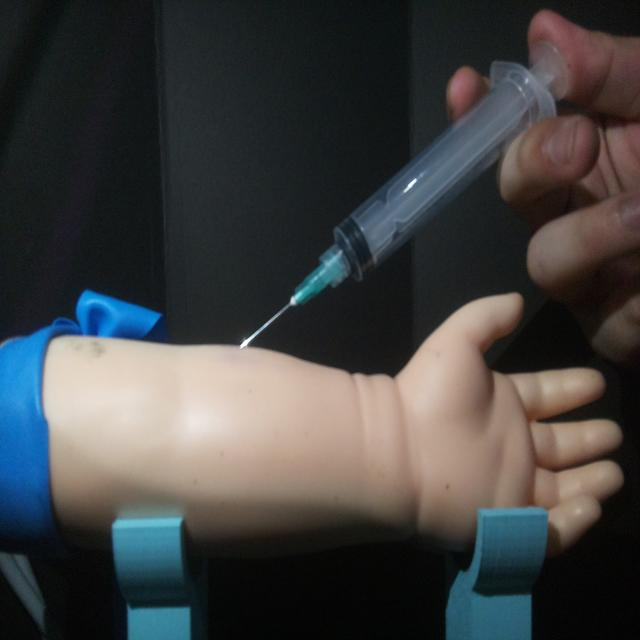30deg: (234, 39, 569, 352)
